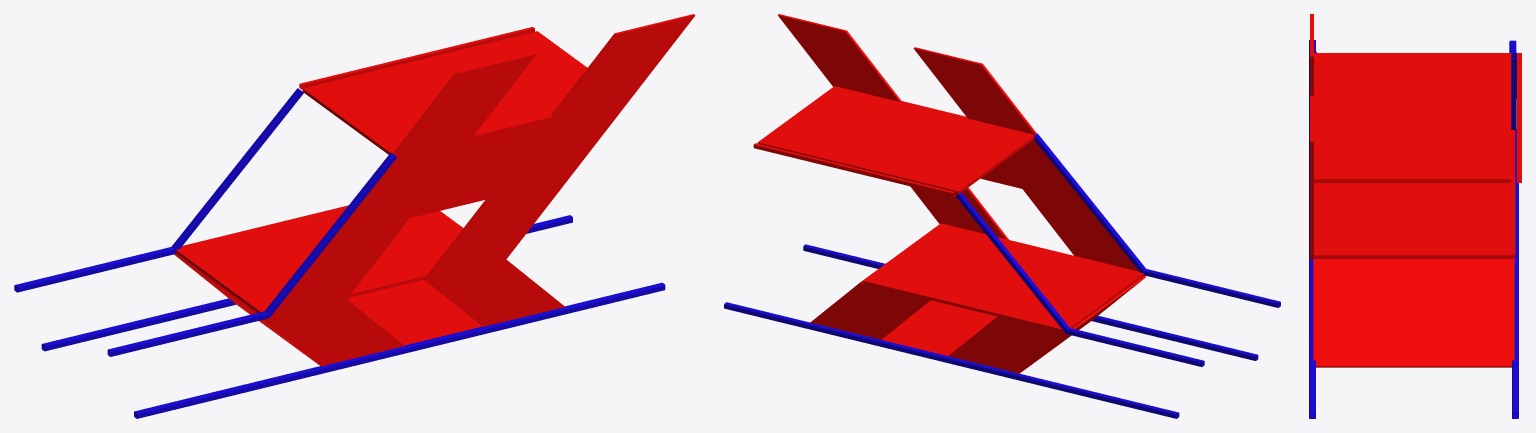
3 renders of one model, left to right at view 1: azimuth 30°, elevation 25°; view 2: azimuth 150°, elevation 25°; view 3: azimuth 270°, elevation 25°, orthographic. The views are drawn at different scales.
Parts seen in each view (by area): view 1: Obj_000002; view 2: Obj_000002; view 3: Obj_000002.
Part boxes in pixels (bbox=[...]): Obj_000002: bbox=[14, 14, 695, 418]; Obj_000002: bbox=[724, 14, 1280, 418]; Obj_000002: bbox=[1309, 14, 1521, 418].
Size of the model in its own units: 3.7 by 1.61 by 1.06.
